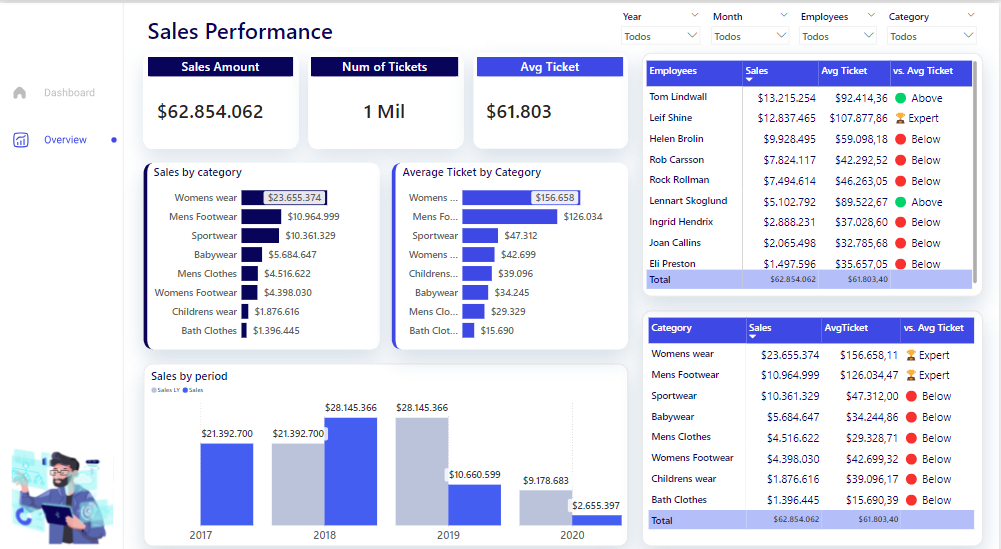

This screenshot's page, from the dashboard's own definition file:
{"tool":"powerbi","page":{"name":"Report","canvas":[1920,1080],"ordinal":0},"visuals":[{"type":"cardVisual","title":"Sales Amount","fields":{"Data":["Medidas.Sales"]},"box":[285.1,103.7,278.6,164.2],"z":0},{"type":"cardVisual","title":"Num of Tickets","fields":{"Data":["Medidas.Qtd Vendida"]},"box":[598.5,103.7,283.3,164],"z":1000},{"type":"cardVisual","title":"Avg Ticket","fields":{"Data":["Medidas.AVG Ticket"]},"box":[917.7,103.7,280.6,164],"z":2000},{"type":"slicer","fields":{"Values":["dCalendario.AnoAtual"]},"box":[1185.2,8,171.6,83.8],"z":3000},{"type":"slicer","fields":{"Values":["dEmployees.name"]},"box":[1527,8,168.9,85.1],"z":4000},{"type":"slicer","fields":{"Values":["dCalendario.MesAbre"]},"box":[1356.8,8,170.2,85.1],"z":5000},{"type":"clusteredColumnChart","title":"Sales by period","fields":{"Category":["dCalendario.Ano","dCalendario.MesAno","dCalendario.NomeDia","dCalendario.DiaMes"],"Y":["Medidas.Sales LY","Medidas.Sales"]},"box":[288.7,701,909.2,339.7],"z":6000},{"type":"clusteredBarChart","title":"Sales by category","fields":{"Category":["dCategories.nome_categoria"],"Y":["Medidas.Sales"]},"box":[289.4,308.9,434.2,354.2],"z":7000},{"type":"slicer","fields":{"Values":["dCategories.nome_categoria"]},"box":[1695.9,8,191.5,85.1],"z":10000},{"type":"pivotTable","fields":{"Rows":["dEmployees.name"],"Values":["Medidas.Sales","Medidas.Ticket Médio","Medidas.KPI Ticket"]},"box":[1237.7,105.8,645.8,449.3],"z":11000},{"type":"clusteredBarChart","title":"Average Ticket by Category","fields":{"Category":["dCategories.nome_categoria"],"Y":["Medidas.AVG Ticket"]},"box":[769,308.9,429.8,354.2],"z":15000},{"type":"pivotTable","fields":{"Rows":["dCategories.nome_categoria"],"Values":["Medidas.Sales","Medidas.Ticket Médio","Medidas.KPI Ticket_Categoria"]},"box":[1242,600.5,639.4,440.6],"z":16000},{"type":"shape","box":[263.3,27.8,670,57.8],"z":17000},{"type":"textbox","box":[278.8,17.7,695.1,78.5],"z":18000}]}

Visuals, with their boxes on the page's 1920x1080 design canvas (x1, y1, x2, y2). These are canvas units, not pixel positions in the 1001x549 screenshot, which may show the page scaled, cropped or inside an application window:
"Sales Amount" cardVisual: l=285, t=104, r=564, b=268
"Num of Tickets" cardVisual: l=598, t=104, r=882, b=268
"Avg Ticket" cardVisual: l=918, t=104, r=1198, b=268
slicer - dCalendario.AnoAtual: l=1185, t=8, r=1357, b=92
slicer - dEmployees.name: l=1527, t=8, r=1696, b=93
slicer - dCalendario.MesAbre: l=1357, t=8, r=1527, b=93
"Sales by period" clusteredColumnChart: l=289, t=701, r=1198, b=1041
"Sales by category" clusteredBarChart: l=289, t=309, r=724, b=663
slicer - dCategories.nome_categoria: l=1696, t=8, r=1887, b=93
pivotTable - dEmployees.name x Medidas.Sales: l=1238, t=106, r=1884, b=555
"Average Ticket by Category" clusteredBarChart: l=769, t=309, r=1199, b=663
pivotTable - dCategories.nome_categoria x Medidas.Sales: l=1242, t=600, r=1881, b=1041
shape: l=263, t=28, r=933, b=86
textbox: l=279, t=18, r=974, b=96
